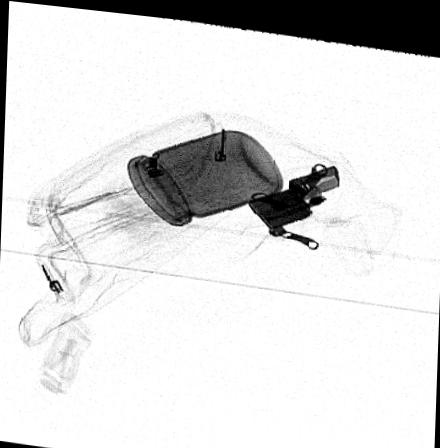Lighter: (247, 156, 339, 221)
